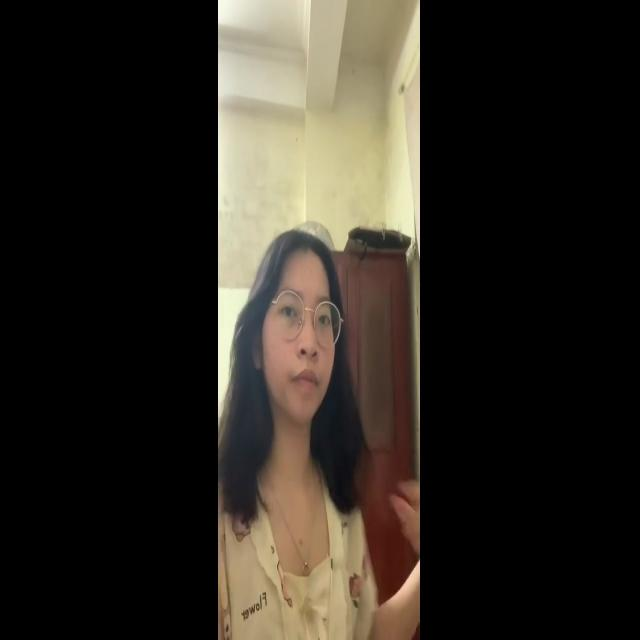student: (224, 213, 406, 640)
